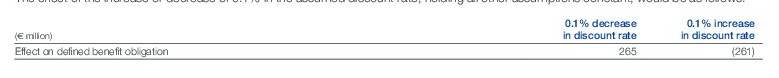table: (0, 0, 779, 78)
